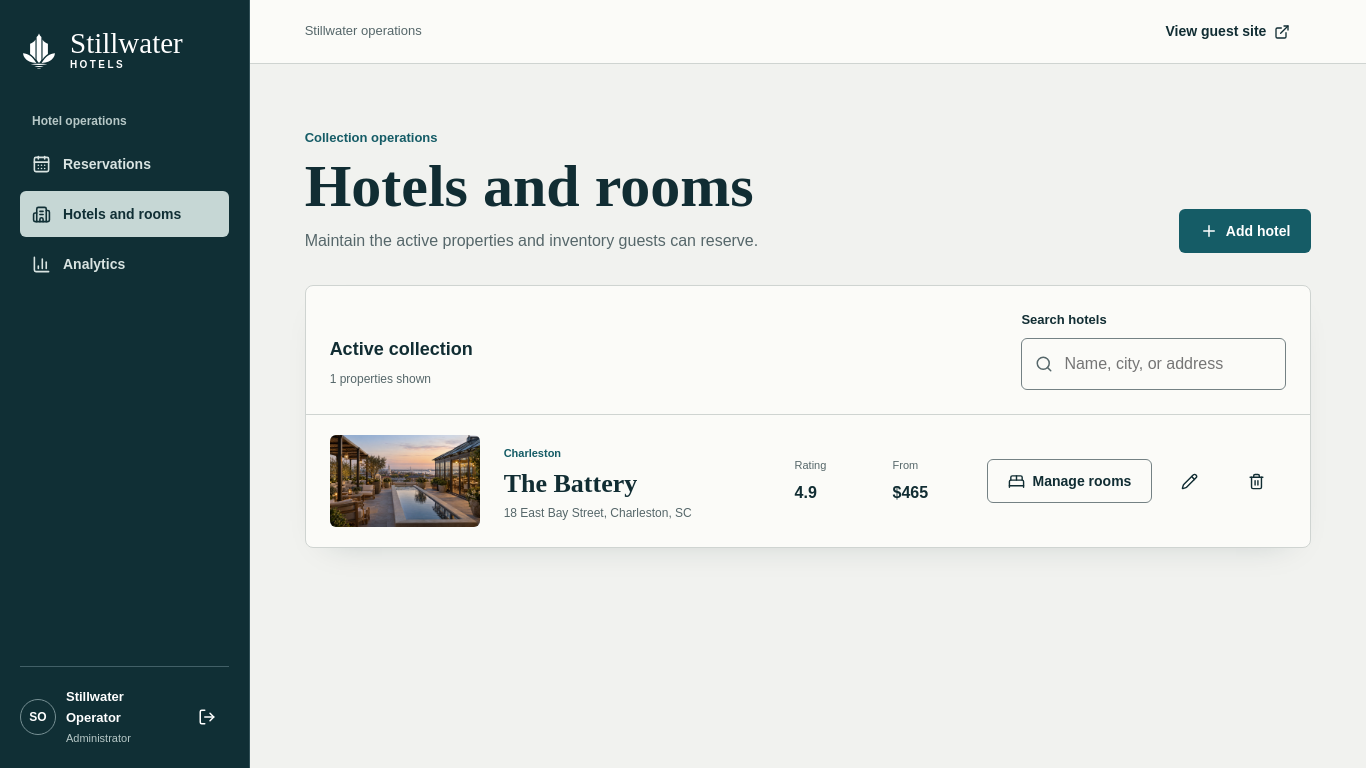
Test case: administrator application › preserves room entries when the server rejects an inventory edit
The image size is (1366, 768).
Click the button "Manage rooms".
click(1070, 481)  # box [987,459,1152,503]
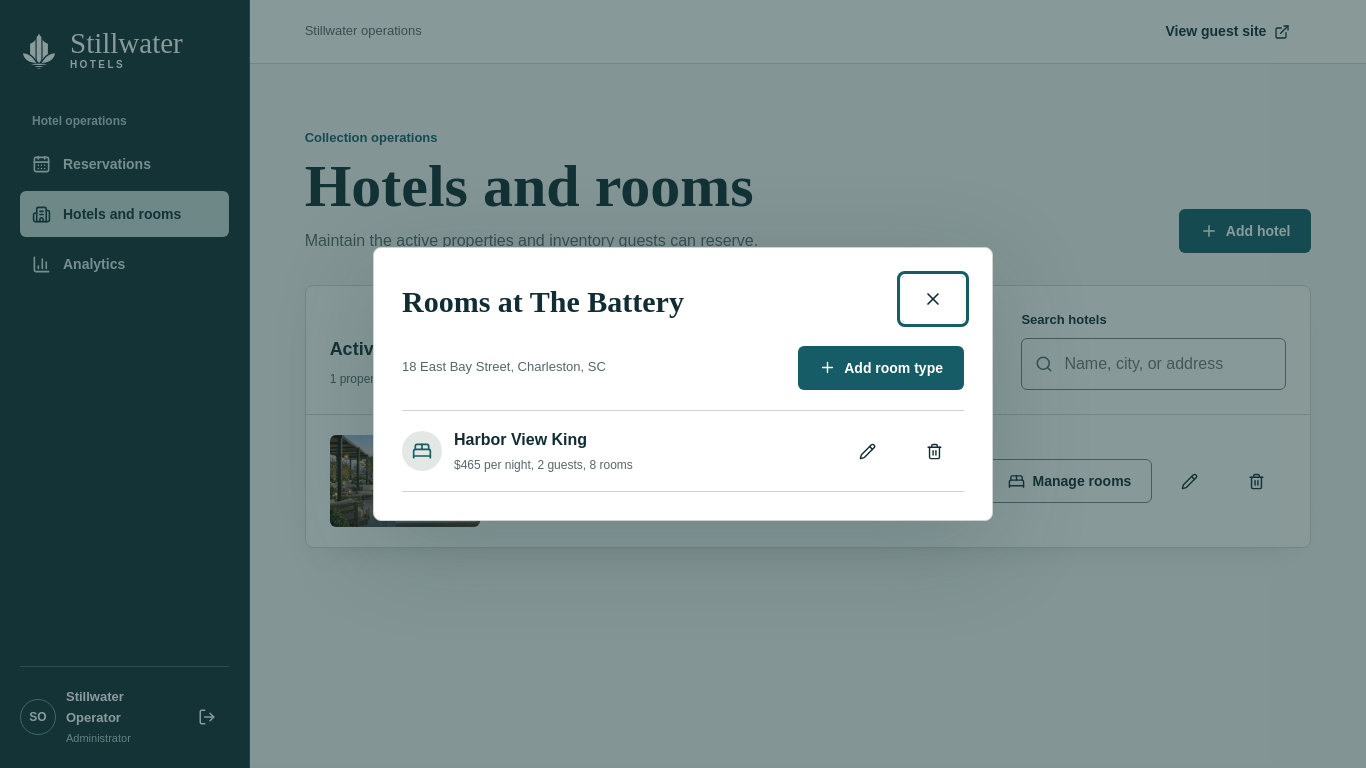
Click the button named "Edit Harbor View King".
click(868, 451)  # box [838,429,897,473]
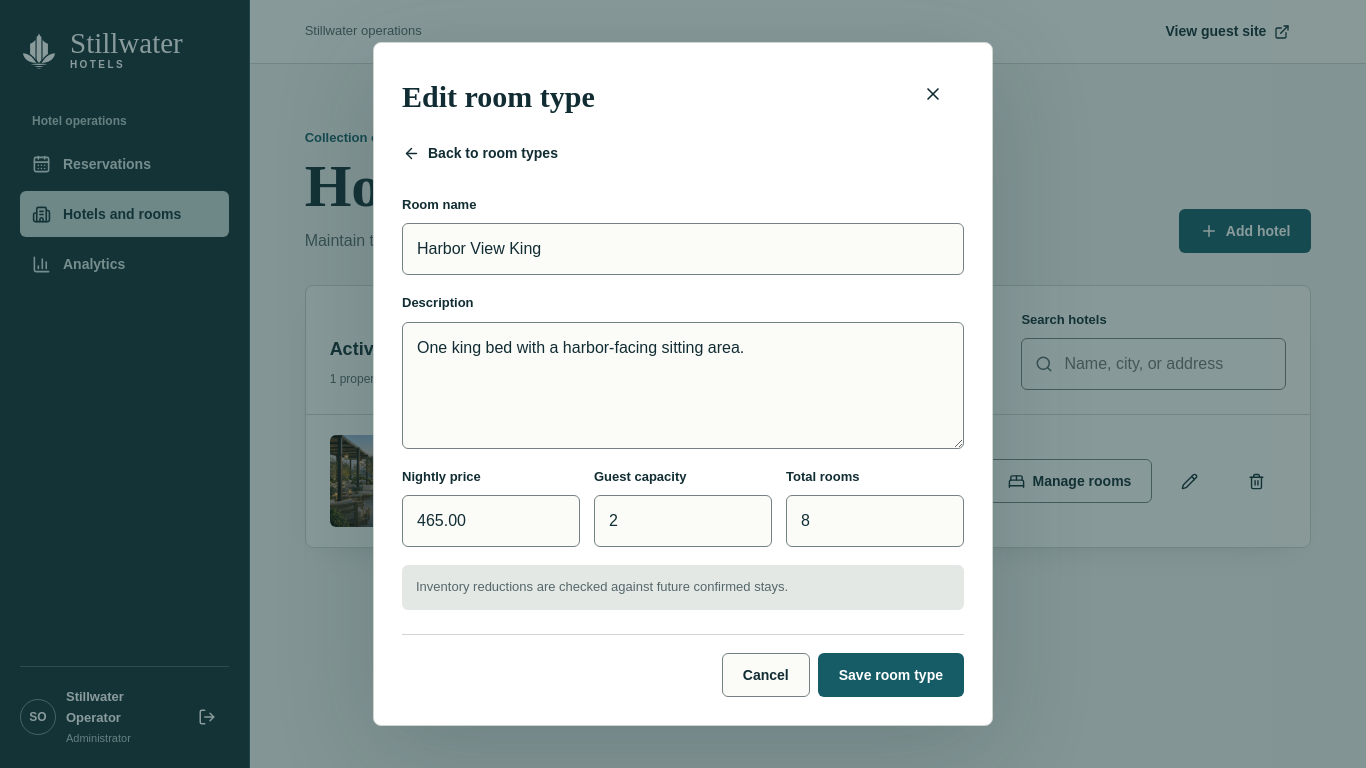
Replace the text in the number field labelled "Total rooms" with "1" at x=875, y=521, box [786,495,964,547]
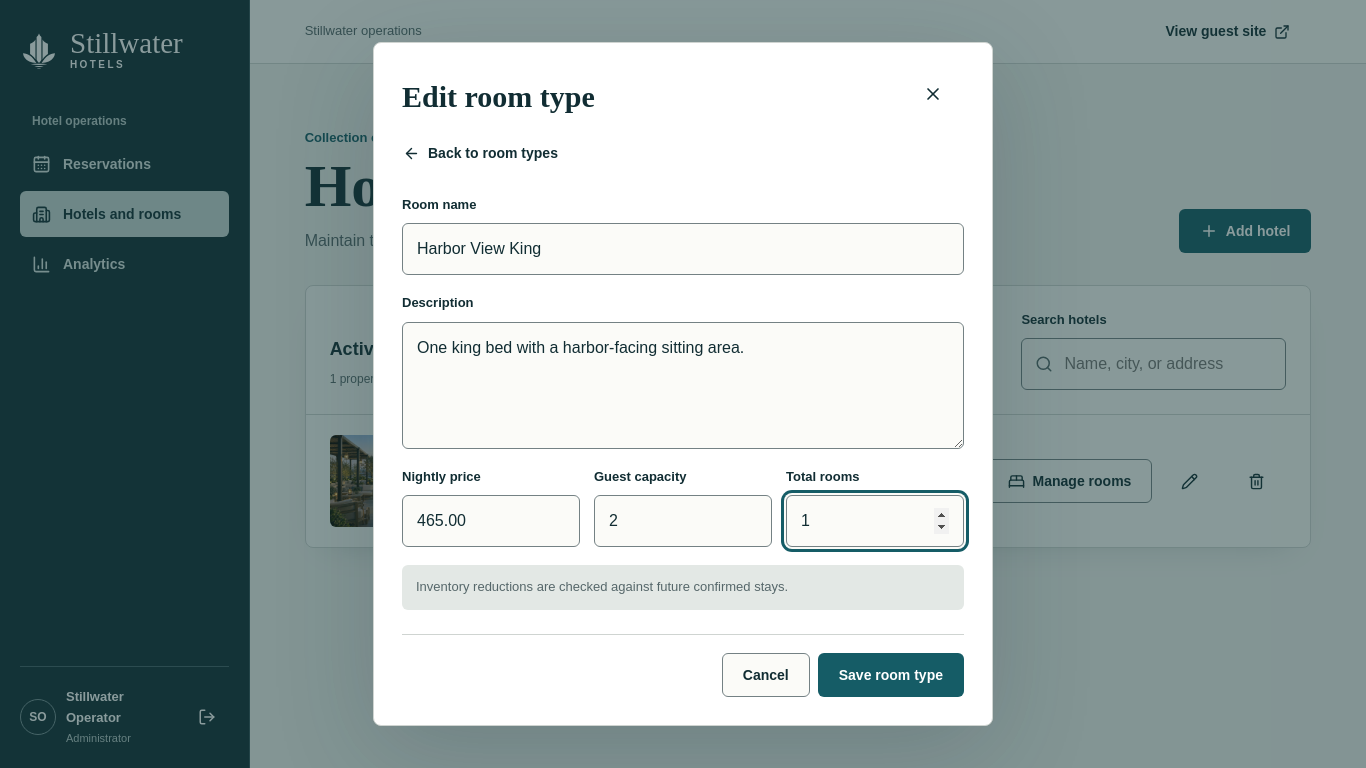
Click the button "Save room type".
click(891, 675)  # box [818,653,964,697]
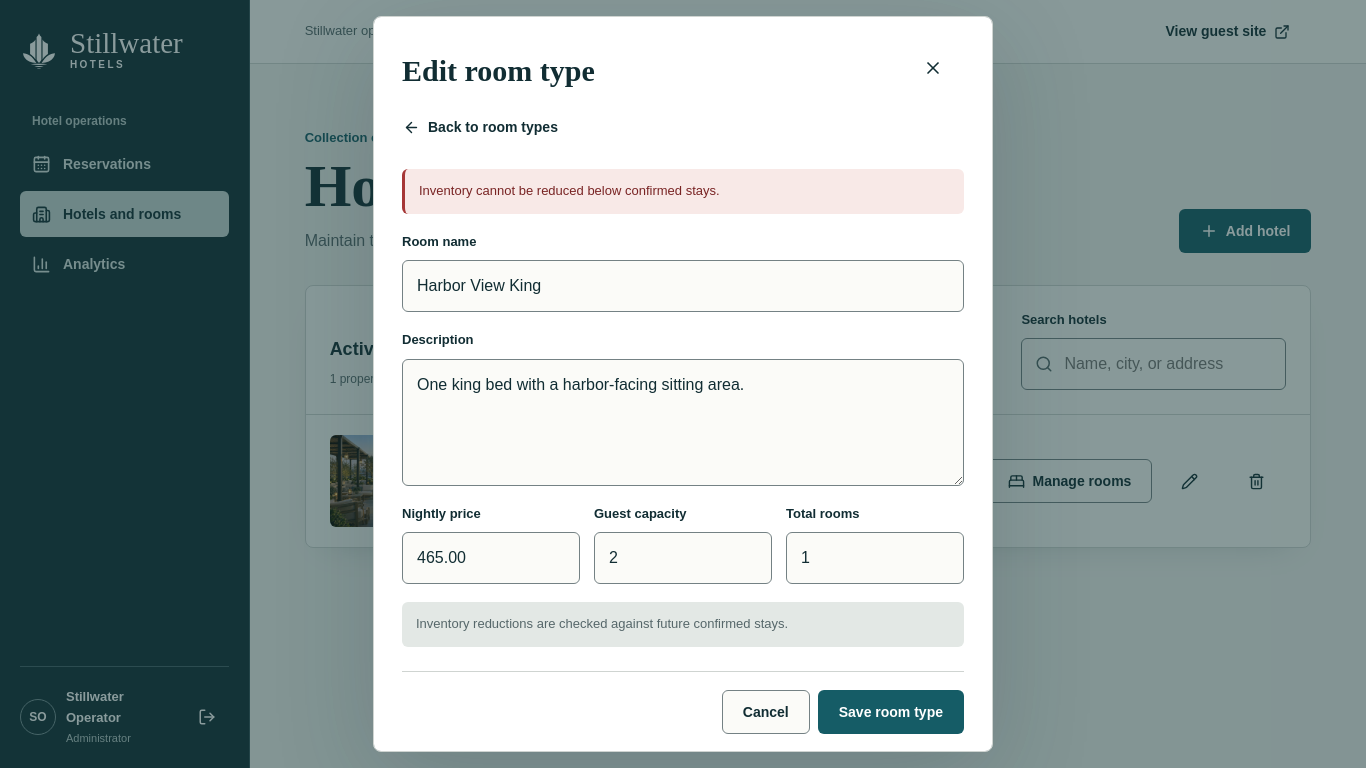
Expected: the text "Inventory cannot be reduced below confirmed stays." is shown, [402,169,964,214]
